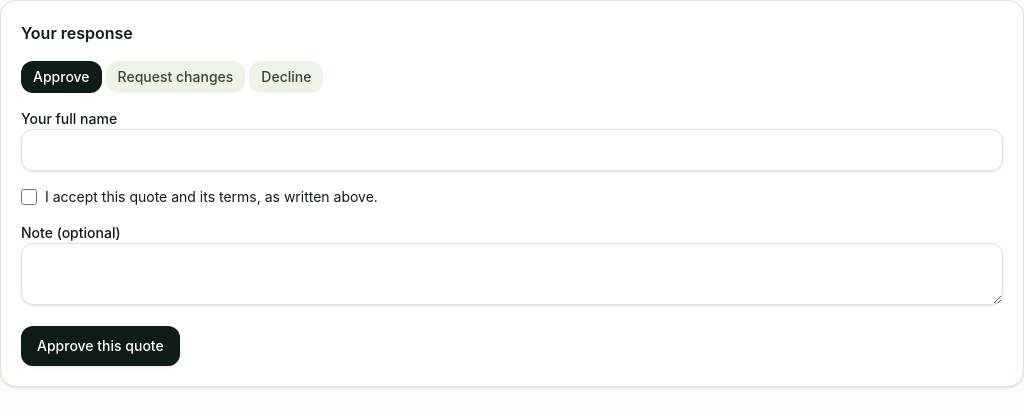
Scenario: response panel › asks for a reason when declining or requesting changes
What coordinates should you click on to do the following:
click the tab "Request changes"
I would click on:
 (176, 77)
Its box is left=106, top=61, right=245, bottom=93.
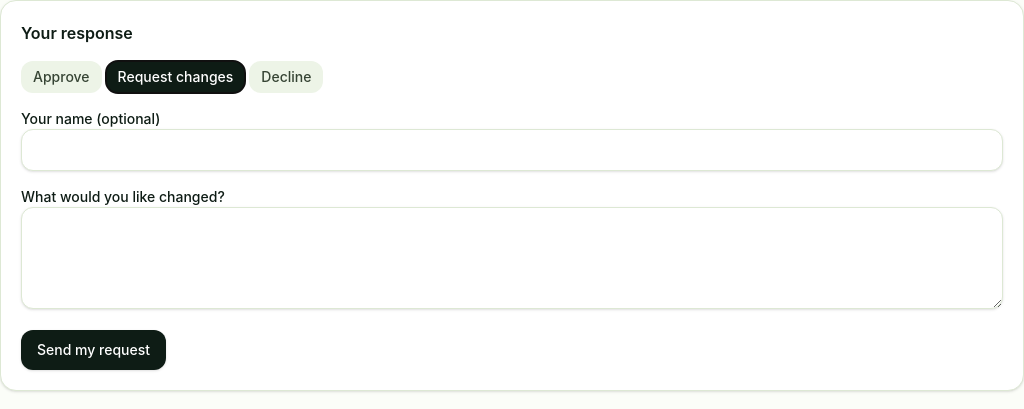
What coordinates should you click on to do the following:
click the tab "Decline"
I would click on:
 (286, 77)
Its box is left=249, top=61, right=323, bottom=93.
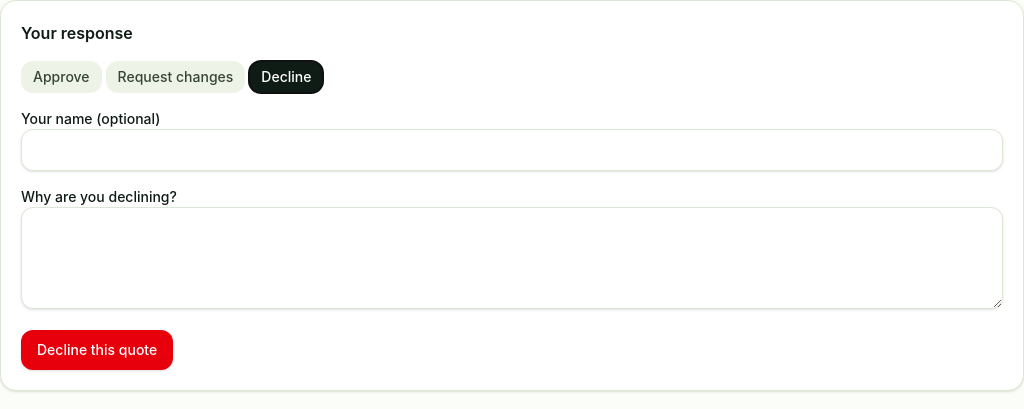
Expected: the button "Decline this quote" is shown, left=21, top=330, right=173, bottom=370
